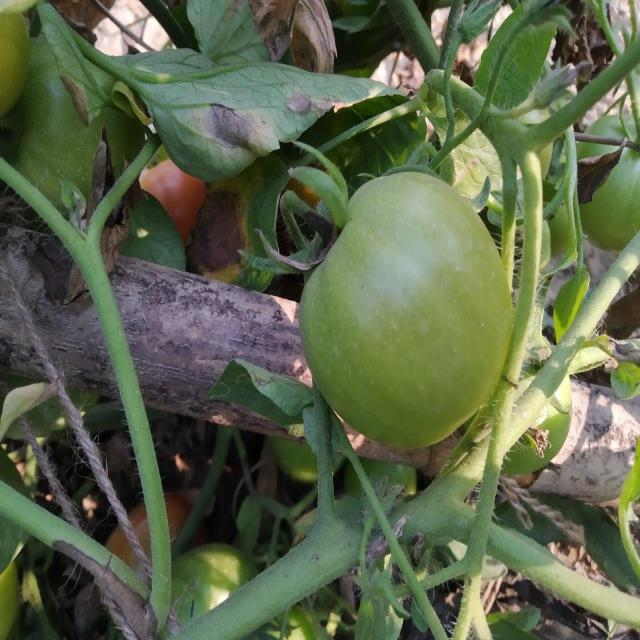Unripe: (296, 167, 513, 448)
